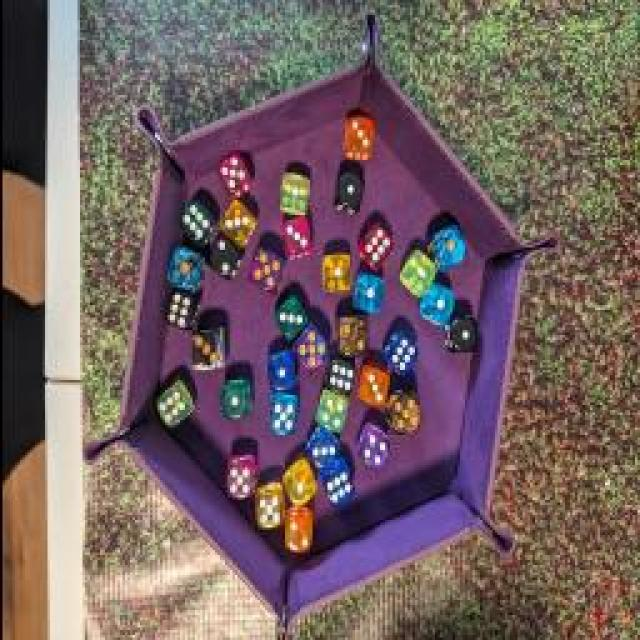dice_1: (399, 245, 439, 305), (274, 461, 321, 511), (275, 161, 313, 221), (166, 242, 206, 296), (417, 278, 455, 328), (350, 270, 388, 320), (216, 373, 252, 425), (319, 248, 356, 298), (261, 348, 301, 392), (330, 168, 365, 214)
dice_2: (278, 500, 314, 560), (200, 232, 240, 282), (332, 310, 370, 360)
dice_3: (185, 316, 225, 376), (214, 196, 258, 246), (272, 214, 312, 268), (270, 286, 308, 342), (304, 425, 344, 477), (351, 362, 391, 410), (336, 116, 372, 162)
dice_4: (314, 378, 348, 438), (354, 425, 388, 470)
dice_5: (288, 317, 330, 375), (210, 148, 250, 208), (247, 242, 285, 300), (382, 388, 420, 444), (250, 476, 285, 532), (262, 389, 296, 441), (224, 450, 258, 502)
dice_6: (148, 381, 194, 434), (356, 218, 394, 278), (176, 190, 212, 248), (320, 466, 355, 512), (160, 290, 200, 330), (325, 355, 360, 400), (380, 332, 415, 376)
